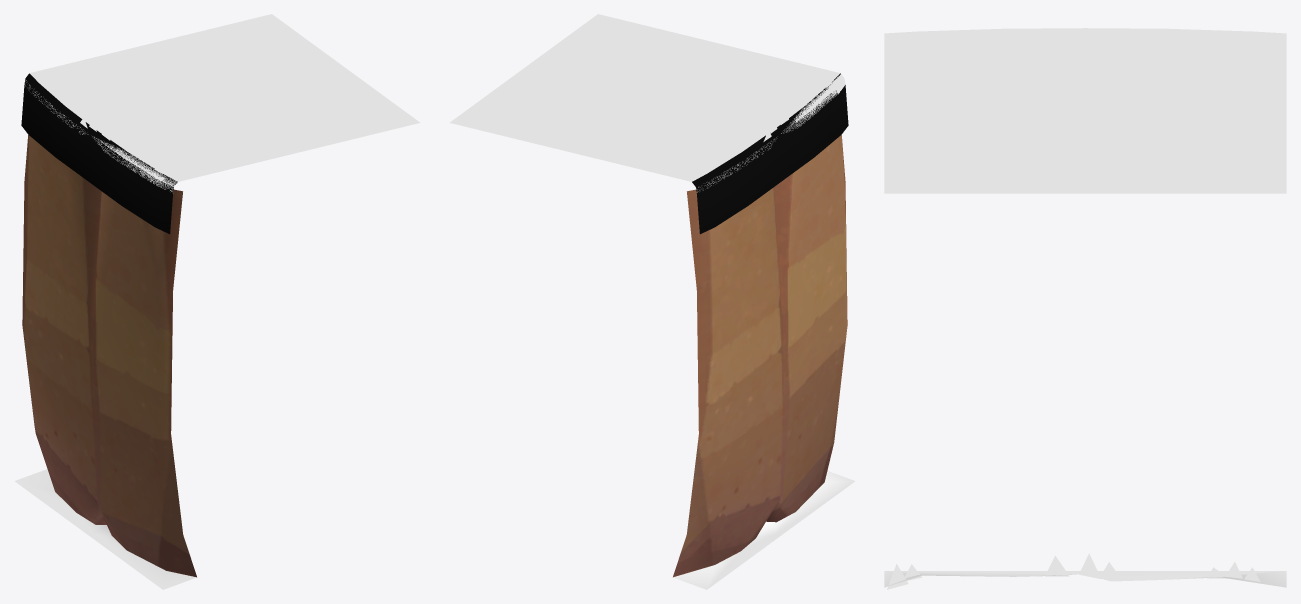
3 views of the same model, side by side, from view 1: azimuth 30°, elevation 25°; view 2: azimuth 150°, elevation 25°; view 3: azimuth 270°, elevation 25° (orthographic). The views are drawn at different scales.
Parts seen in each view (by area): view 1: CliffC__mCliff, GrassT__mGrass, GrassOP__mGrassCliffXlu, GrassB__mGrass; view 2: CliffC__mCliff, GrassT__mGrass, GrassOP__mGrassCliffXlu, GrassB__mGrass; view 3: GrassT__mGrass, GrassB__mGrass, PGrassBA__mProcGrass.
Boxes of the visible parts, bbox=[...] form: CliffC__mCliff: bbox=[22, 135, 196, 577]; GrassT__mGrass: bbox=[24, 14, 420, 191]; GrassOP__mGrassCliffXlu: bbox=[21, 73, 177, 234]; GrassB__mGrass: bbox=[14, 469, 196, 589]; CliffC__mCliff: bbox=[673, 135, 847, 577]; GrassT__mGrass: bbox=[449, 14, 845, 192]; GrassOP__mGrassCliffXlu: bbox=[692, 73, 848, 234]; GrassB__mGrass: bbox=[673, 471, 855, 589]; GrassT__mGrass: bbox=[884, 28, 1286, 193]; GrassB__mGrass: bbox=[884, 571, 1286, 587]; PGrassBA__mProcGrass: bbox=[887, 553, 1260, 589].
Bounding box in the file's own units: 10 × 15.39 × 10.
4 materials, 1 textured.
